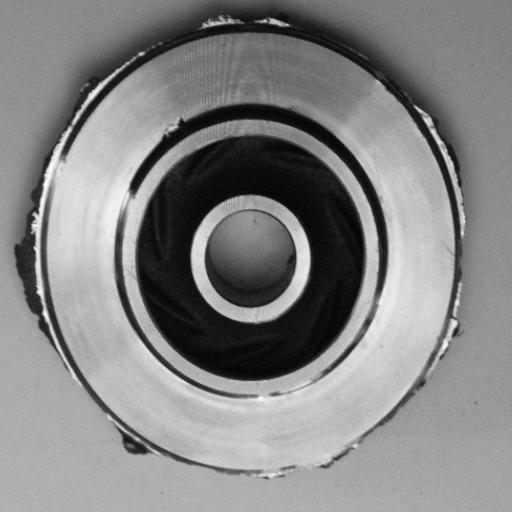casting_with_burr: (13, 10, 471, 485)
crack: (154, 112, 194, 148)
scratch: (234, 365, 339, 406)
